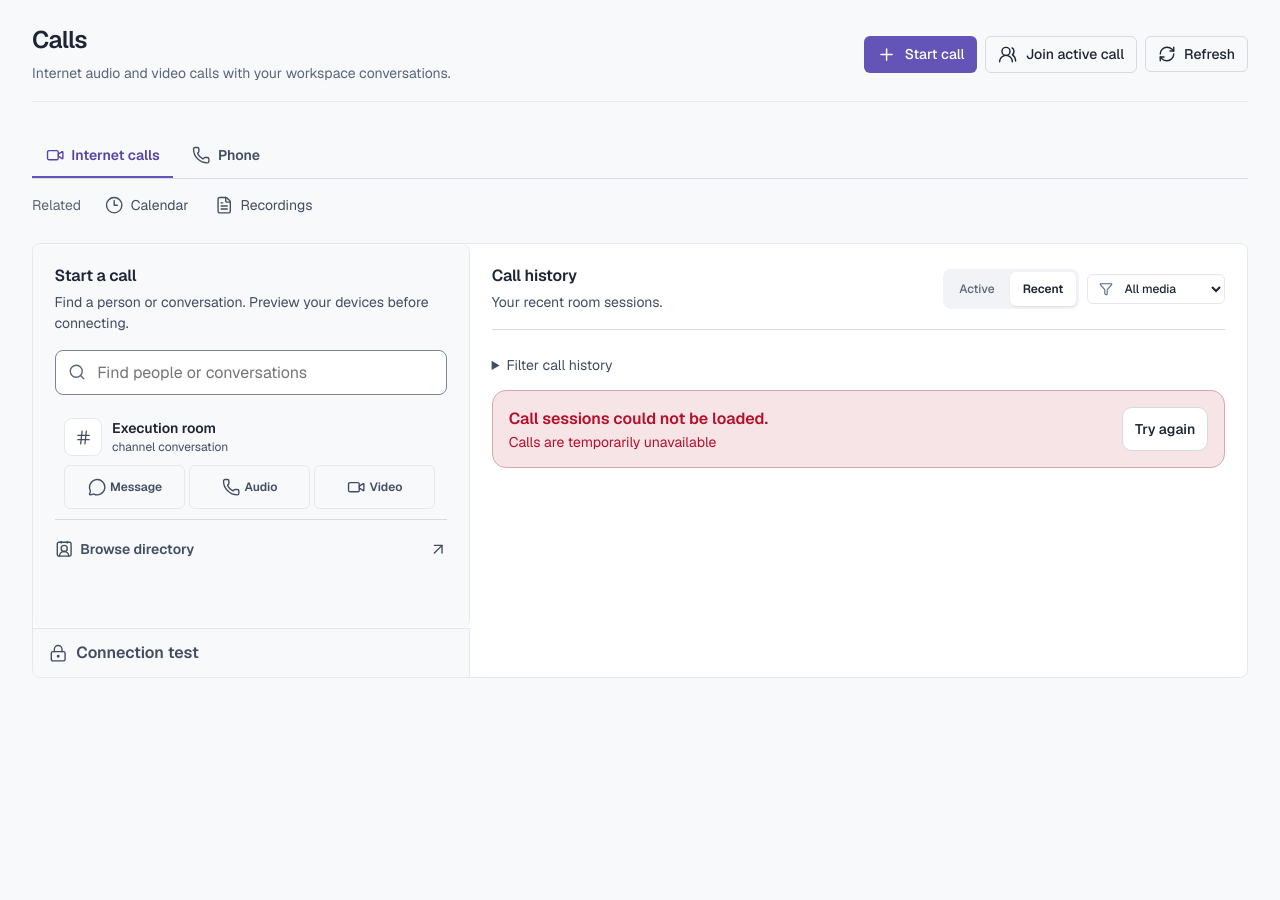
Test: CallsPage › keeps a failed load recoverable with a visible retry
Expected: the message shows "Calls are temporarily unavailable", [509,433,716,451]
What coordinates should you click on to do the following:
click the button "Try again"
I would click on:
 (1165, 429)
Its box is [1122,407,1208,451].
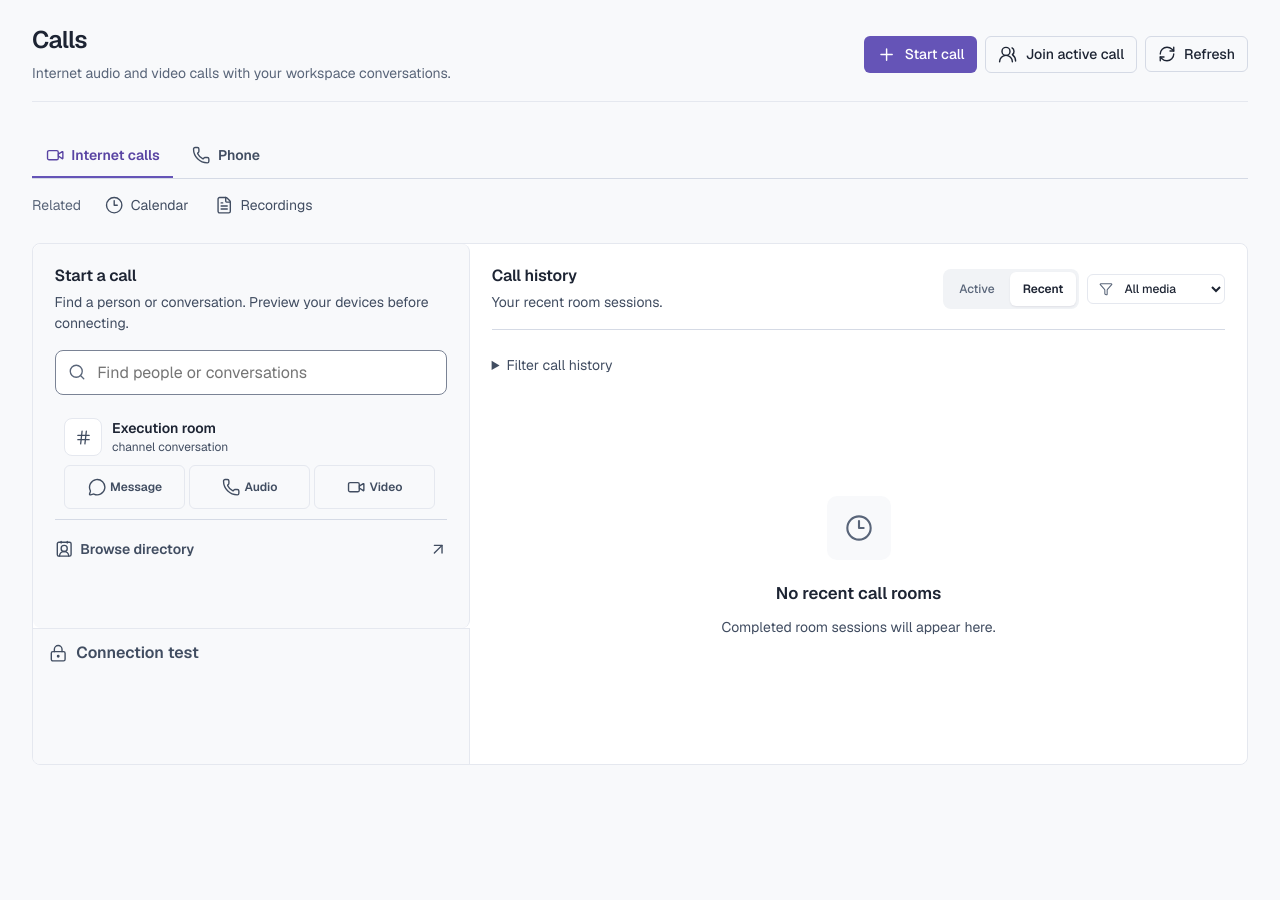
Result: the text "No recent call rooms" is shown at [776,582,941,604]
